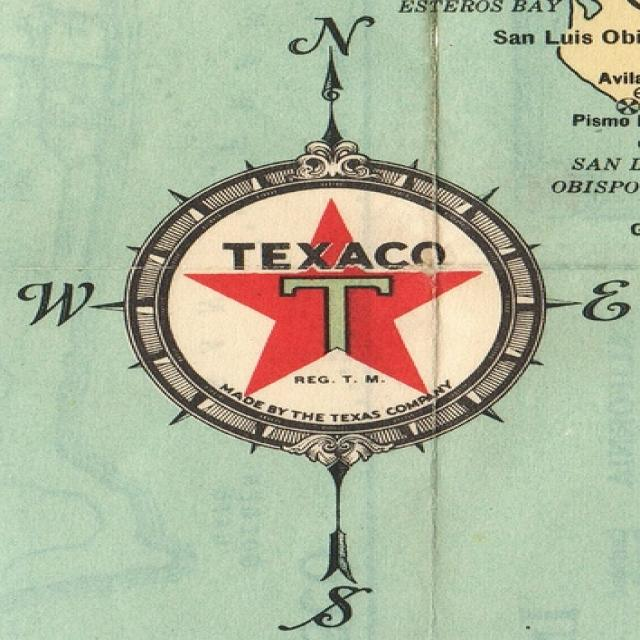texaco: (167, 187, 504, 427)
